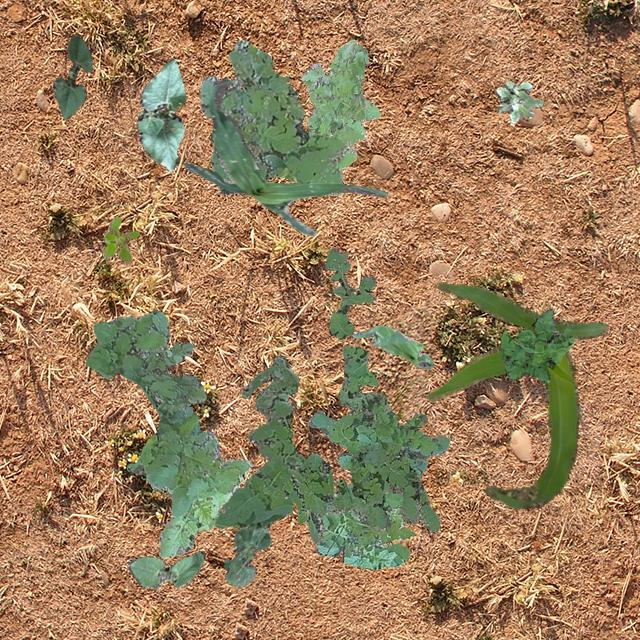crop: (424, 280, 608, 508), (184, 78, 386, 234), (136, 58, 184, 170), (352, 324, 432, 368), (52, 32, 92, 118), (126, 550, 204, 588), (223, 524, 270, 586)
weed: (84, 308, 250, 556), (307, 344, 448, 568), (200, 40, 346, 194), (270, 440, 438, 542), (212, 354, 304, 528), (301, 39, 378, 194), (499, 308, 574, 382), (324, 246, 374, 338), (494, 80, 542, 122), (102, 216, 138, 262)
